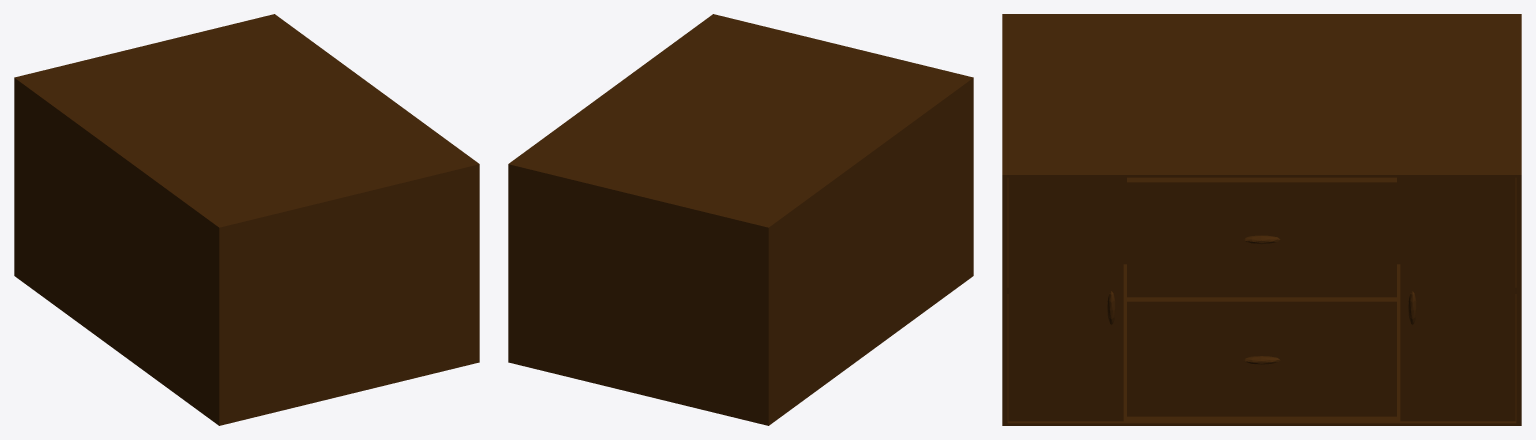
Rendered from unite.fbx.
3 renders of one model, left to right at view 1: azimuth 30°, elevation 25°; view 2: azimuth 150°, elevation 25°; view 3: azimuth 270°, elevation 25°, orthographic. The views are drawn at different scales.
Parts seen in each view (by area): view 1: unite; view 2: unite; view 3: unite.
Part boxes in pixels (box(x1,y1,x2,y2)): unite: box(14, 14, 479, 425); unite: box(508, 14, 973, 425); unite: box(1002, 14, 1521, 425).
Size of the model in its own units: 111 by 80 by 150.
